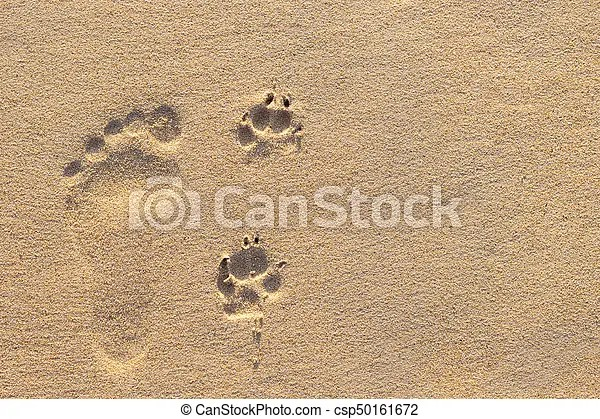human_foot_print: (58, 86, 191, 373), (227, 84, 317, 168), (217, 237, 294, 329)
